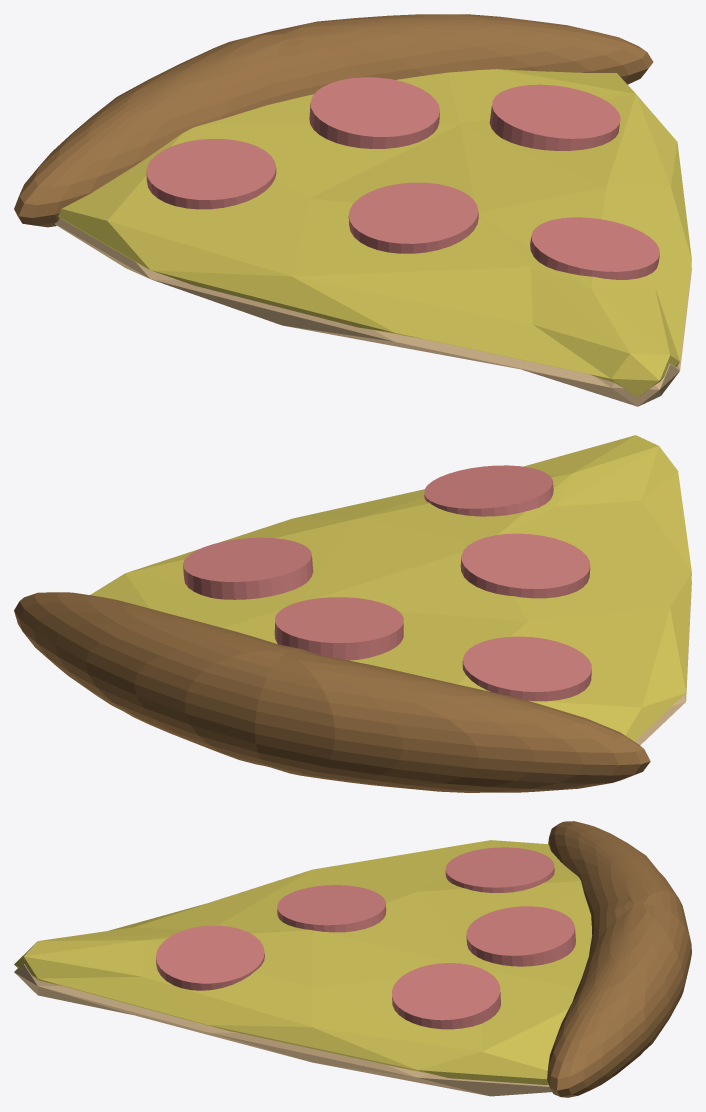
The model's file is Pizza1.02.fbx.
The picture shows the model from 3 angles, top to bottom: view 1: azimuth 30°, elevation 25°; view 2: azimuth 150°, elevation 25°; view 3: azimuth 270°, elevation 25°; orthographic projection. The views are drawn at different scales.
Parts seen in each view (by area): view 1: Sphere.001; view 2: Sphere.001; view 3: Sphere.001.
Part boxes in pixels (x1,y1,x2,y2): Sphere.001: (14, 14, 691, 406); Sphere.001: (14, 435, 691, 792); Sphere.001: (14, 821, 691, 1097).
Size of the model in its own units: 331 by 60.1 by 365.
